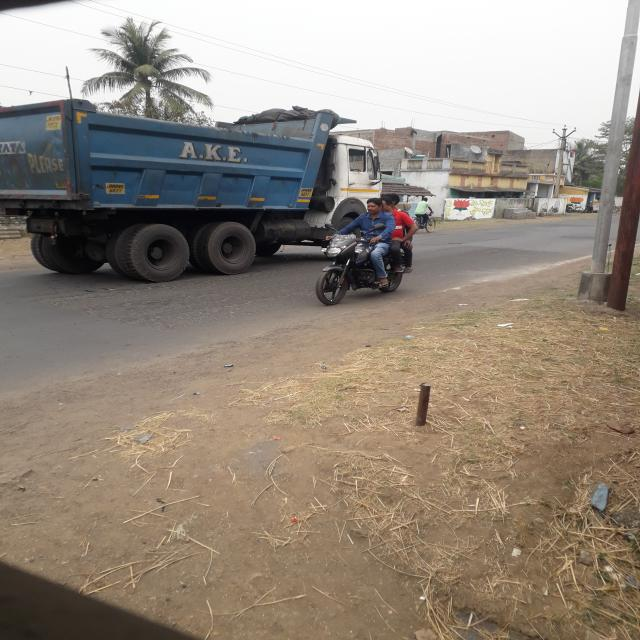Bike: (311, 195, 422, 306)
Truck: (0, 103, 398, 268)
